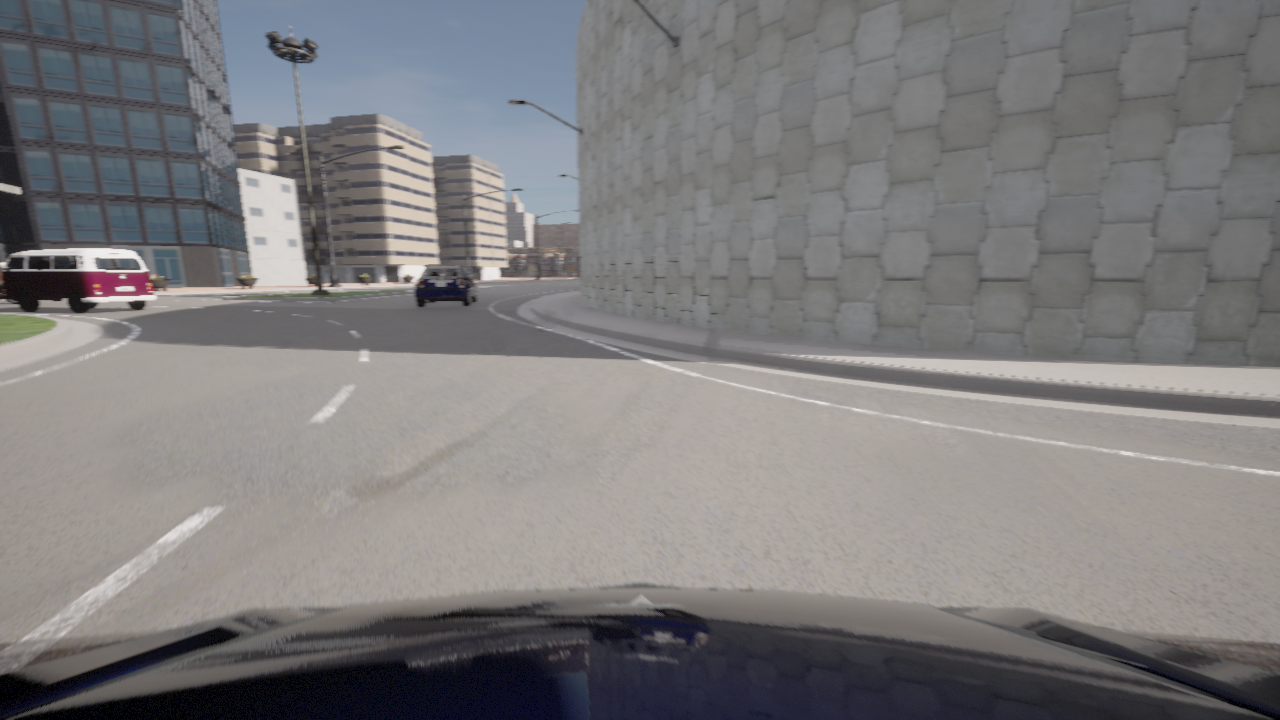cyclist: (0, 584, 1279, 719), (0, 248, 156, 312), (414, 266, 477, 307), (0, 283, 17, 303)
